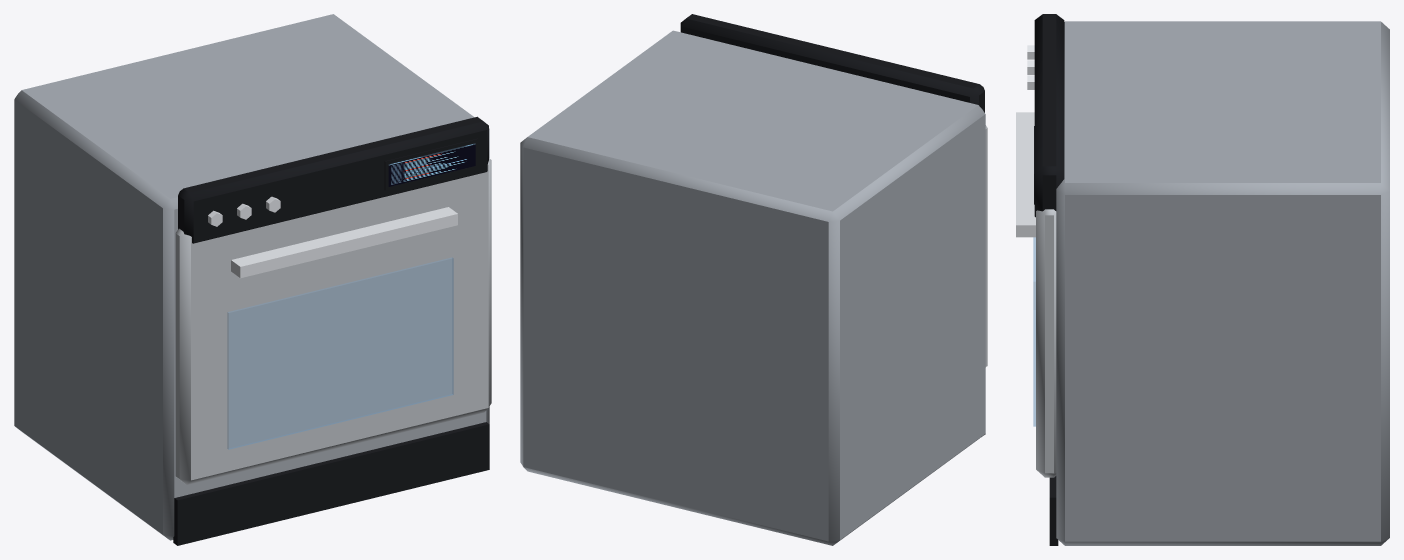
The model's file is galley_dishwasher.glb.
3 renders of one model, left to right at view 1: azimuth 30°, elevation 25°; view 2: azimuth 150°, elevation 25°; view 3: azimuth 270°, elevation 25°, orthographic. The views are drawn at different scales.
Visible parts, largest first — view 1: galley_dishwasher; view 2: galley_dishwasher; view 3: galley_dishwasher.
Boxes of the visible parts, x1,y1,x2,y2 form: galley_dishwasher: (14, 14, 491, 545); galley_dishwasher: (520, 14, 987, 545); galley_dishwasher: (1016, 14, 1389, 545).
Bounding box in the file's own units: 0.9 × 0.93 × 0.84.
Materials: 6 (1 with a texture image).
